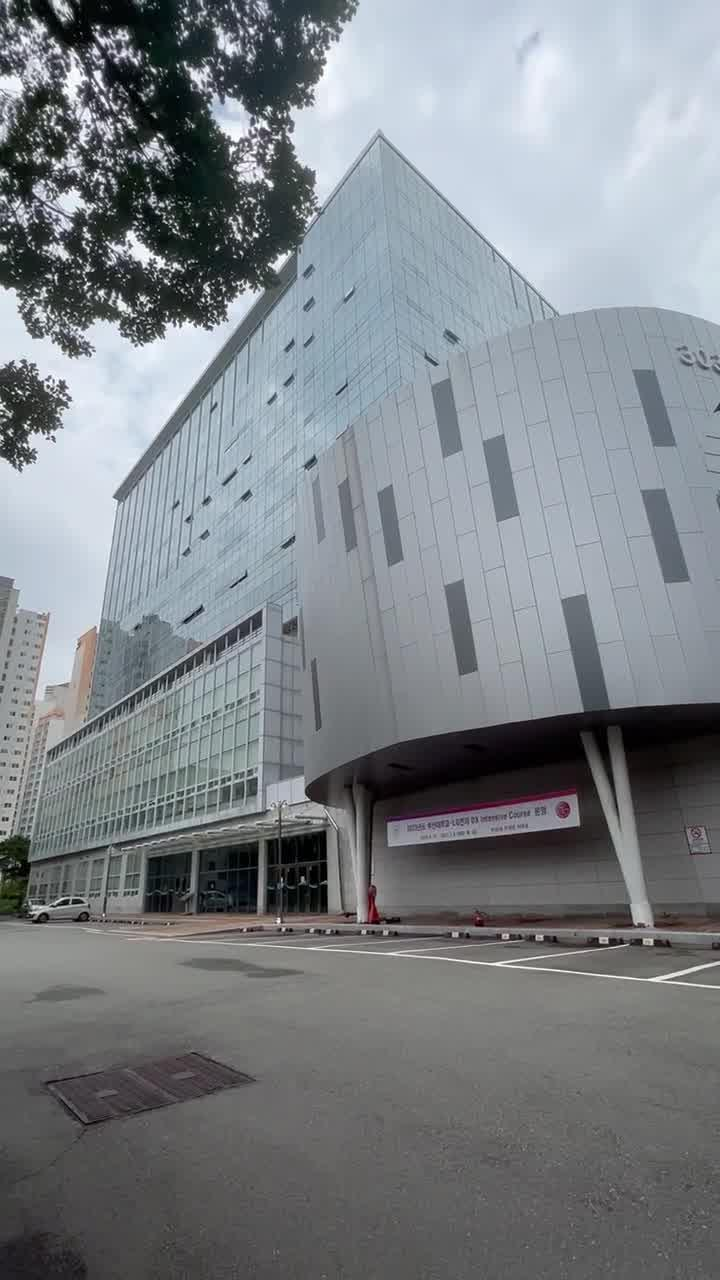building: (74, 362, 720, 832)
